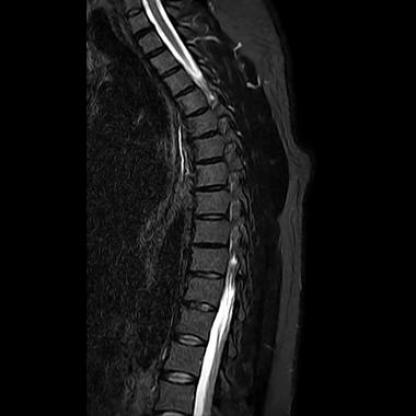Disc Protrusionrotation: (176, 89, 207, 118), (189, 128, 223, 143)
